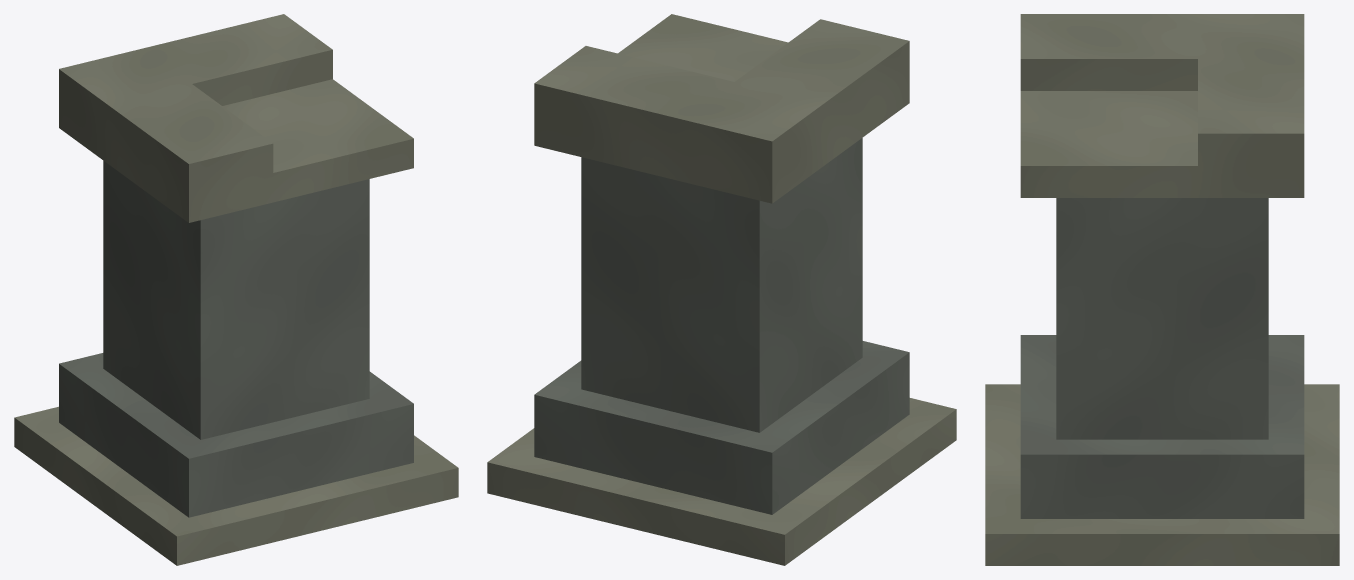
Rendered from PILLAR_B.glb.
The picture shows the model from 3 angles, left to right: view 1: azimuth 30°, elevation 25°; view 2: azimuth 150°, elevation 25°; view 3: azimuth 270°, elevation 25°; orthographic projection. The views are drawn at different scales.
Visible parts, largest first — view 1: PILLAR_B; view 2: PILLAR_B; view 3: PILLAR_B.
Part boxes in pixels (x1,y1,x2,y2): PILLAR_B: [14, 14, 458, 565]; PILLAR_B: [487, 14, 956, 565]; PILLAR_B: [985, 14, 1339, 565].
Bounding box in the file's own units: 1.25 × 1.62 × 1.25.
2 materials, 2 textured.
